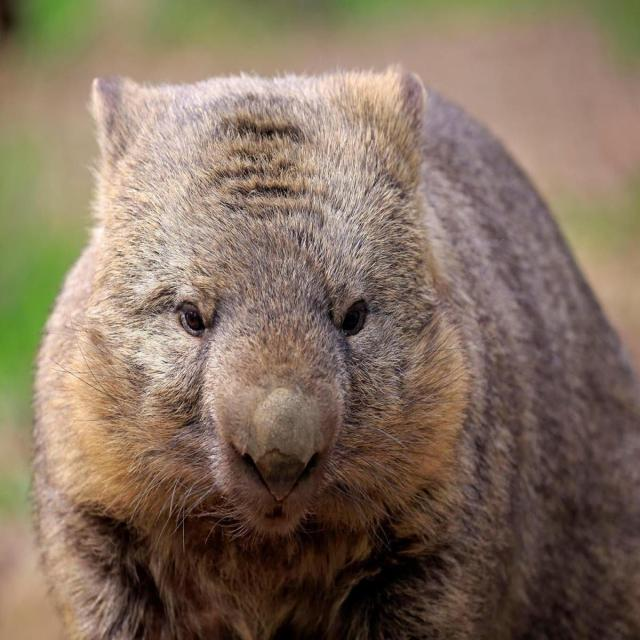Wombat: (32, 62, 640, 640)
